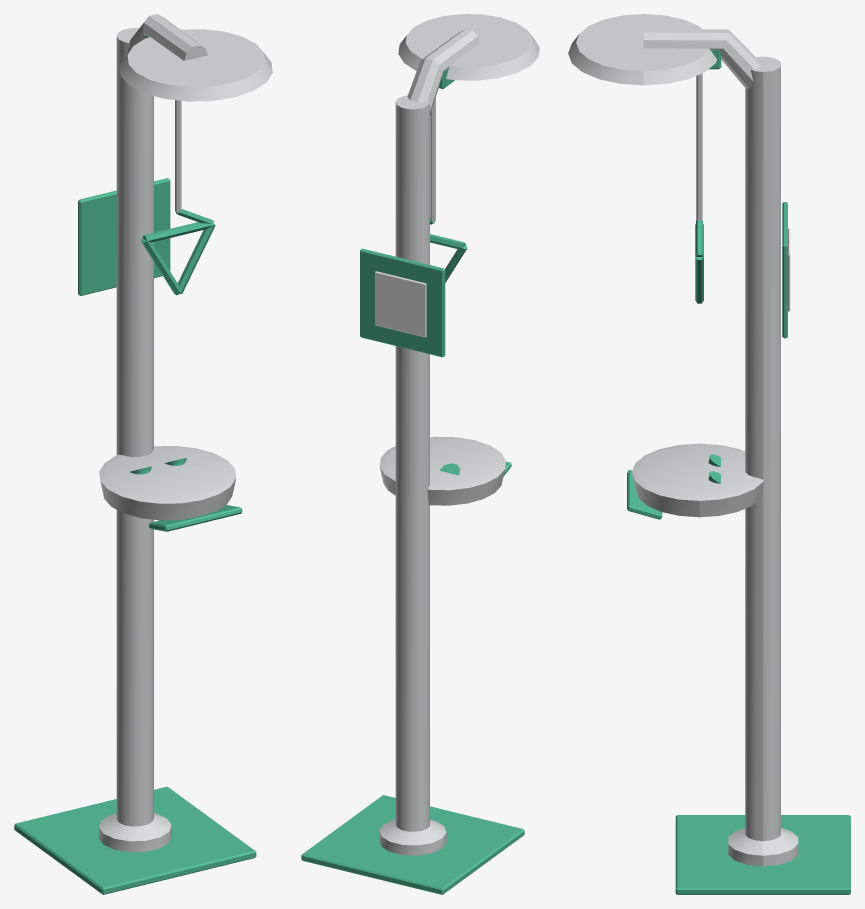
File: university-lecture-hall-and-campus-safety-shower-and-e-348abb7c__34759.glb
The picture shows the model from 3 angles, left to right: view 1: azimuth 30°, elevation 25°; view 2: azimuth 150°, elevation 25°; view 3: azimuth 270°, elevation 25°; orthographic projection. The views are drawn at different scales.
Visible parts, largest first — view 1: safety-shower-and-eyewash; view 2: safety-shower-and-eyewash; view 3: safety-shower-and-eyewash.
Part boxes in pixels (x1=…): safety-shower-and-eyewash: x1=14, y1=14, x2=272, y2=894; safety-shower-and-eyewash: x1=301, y1=14, x2=539, y2=894; safety-shower-and-eyewash: x1=568, y1=14, x2=850, y2=894.
Size of the model in its own units: 0.44 by 2.29 by 0.71.
